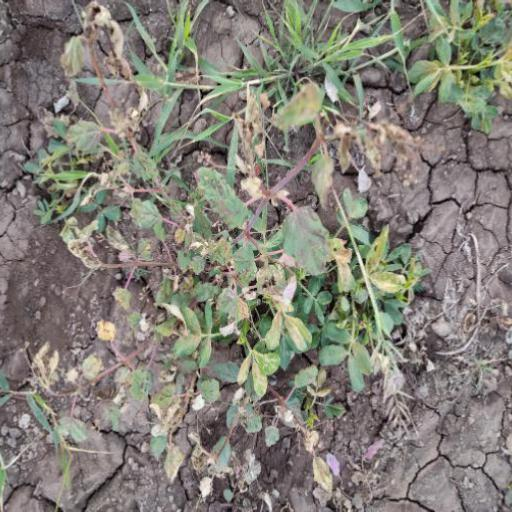weed: (31, 95, 440, 468), (166, 5, 512, 126)
